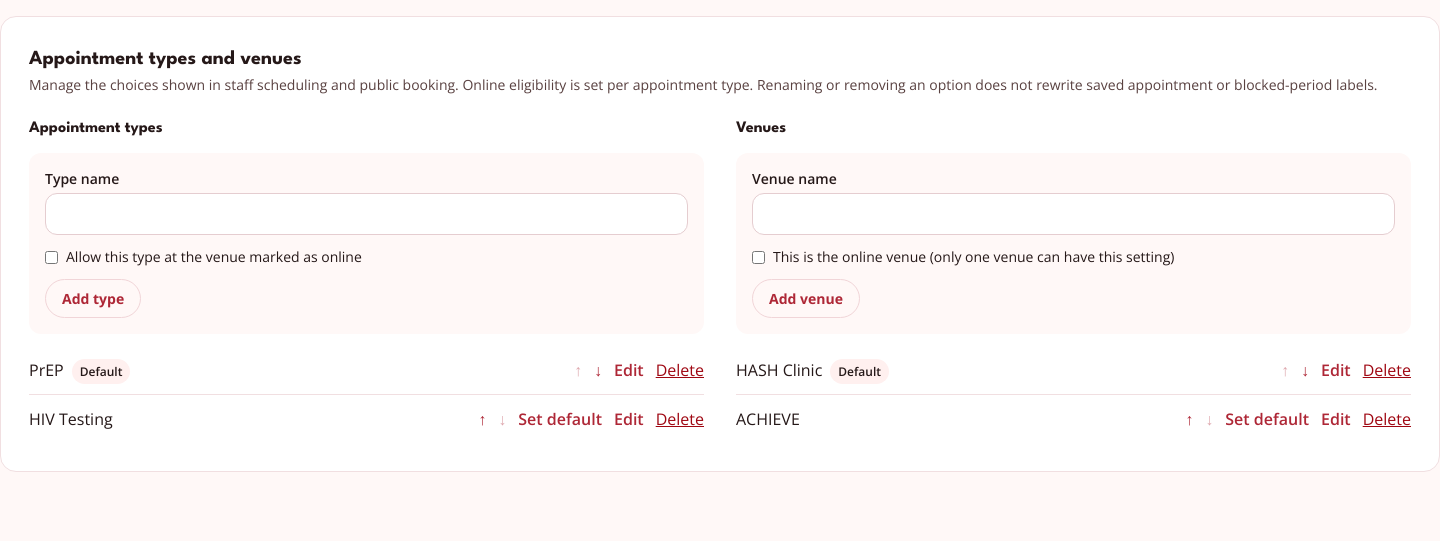
Test: scheduling appointment options › reorders options and sets a primary appointment type and venue
Expected: the text "HIV Testing" is shown, [29,407,113,431]
Click the button named "Move HIV Testing up" at (482, 419), box [478,407,486,431]
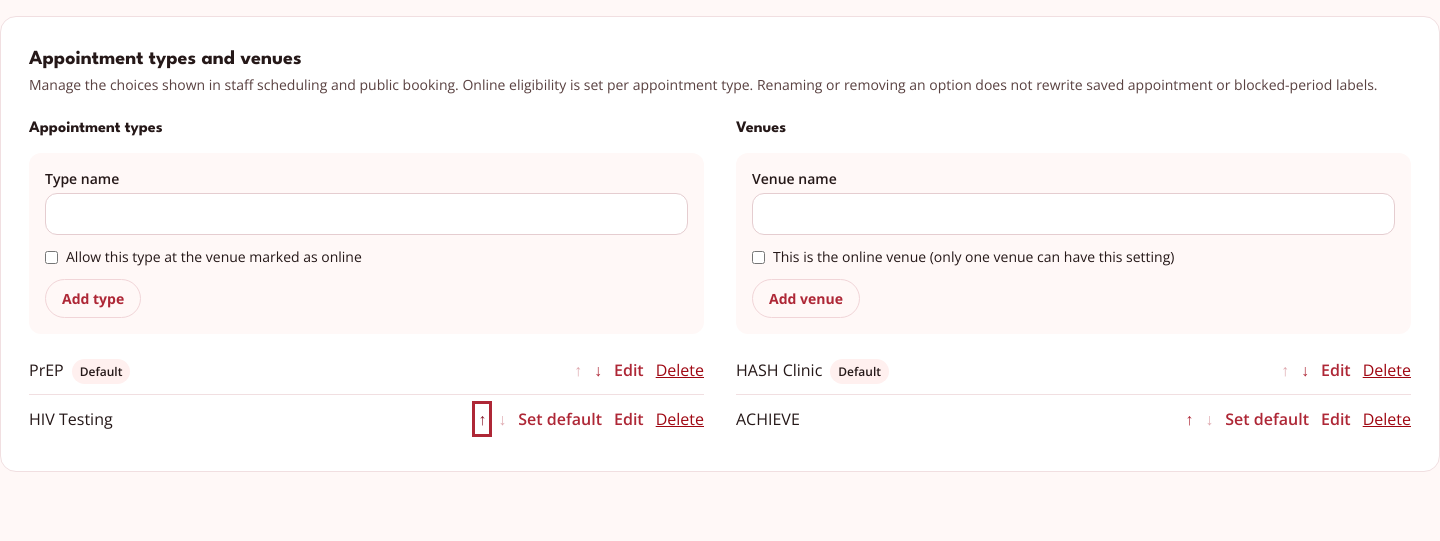
Click the button "Set default" in the row of "HIV Testing" at (560, 419), box [518,407,602,431]
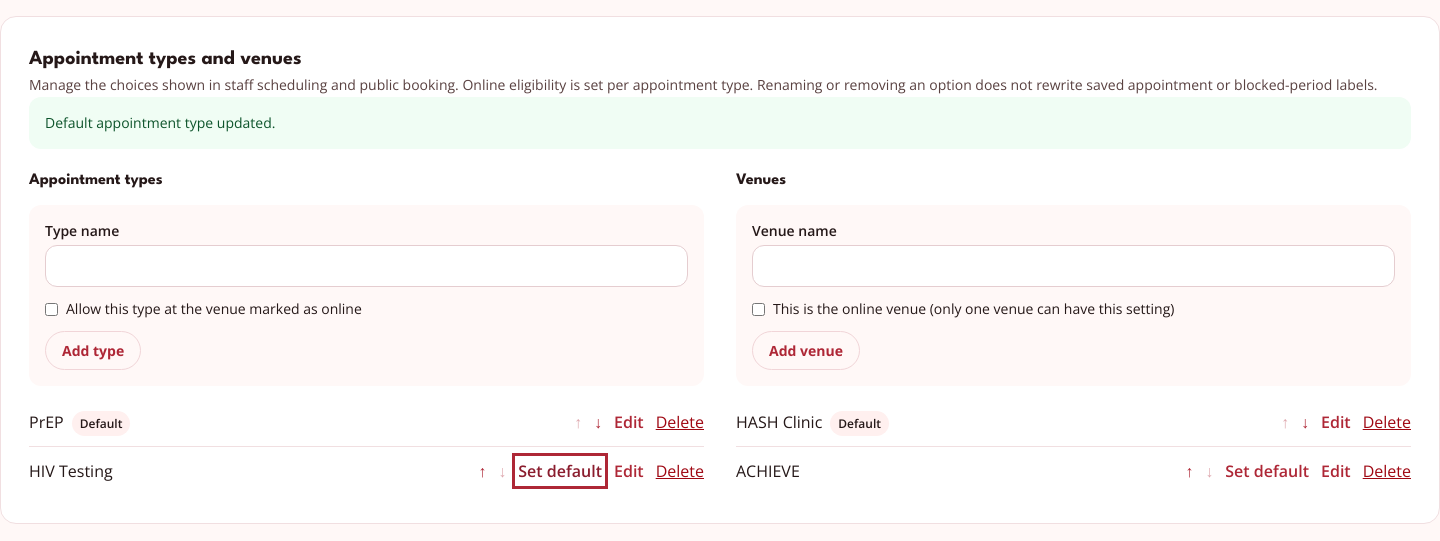
Expected: the message reads "Default appointment type updated.", [45,113,275,132]
